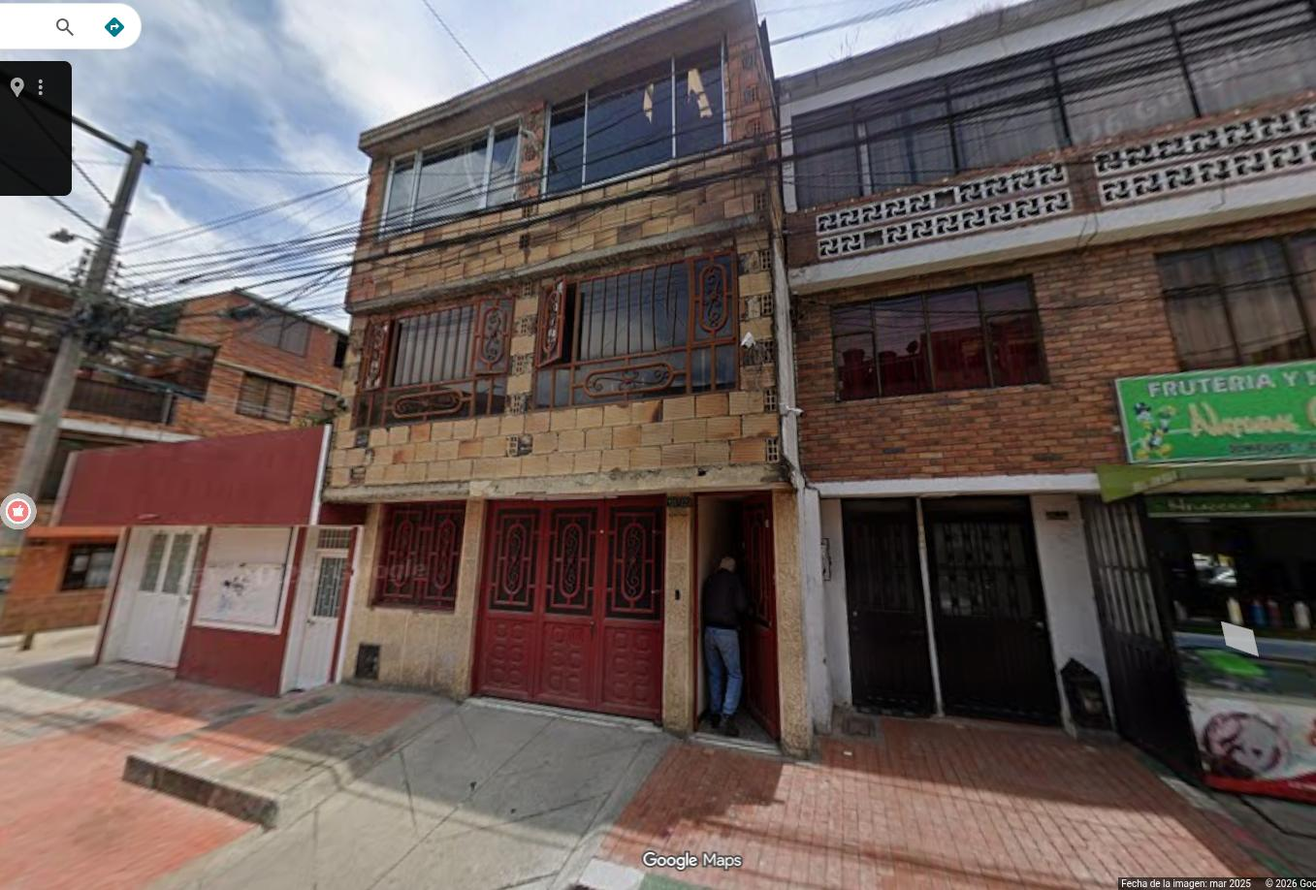casa: (779, 0, 1315, 768), (322, 0, 827, 752), (57, 427, 364, 696)
poste: (15, 117, 147, 493), (0, 531, 21, 576)
